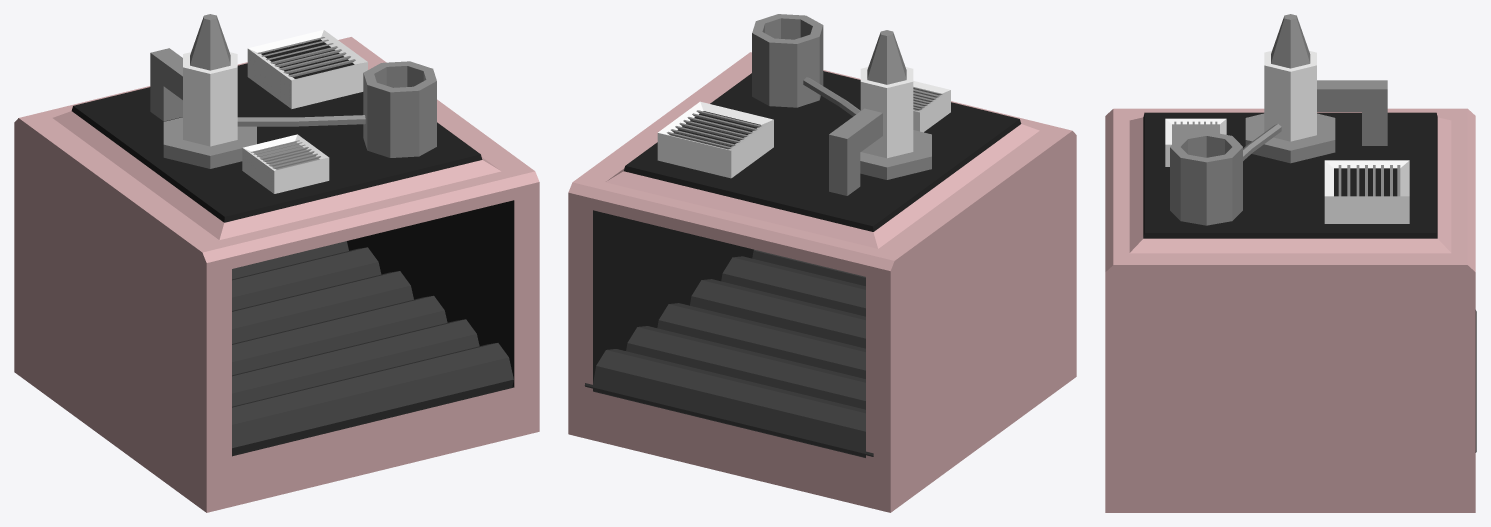
The model's file is bake_Factory.fbx.
3 renders of one model, left to right at view 1: azimuth 30°, elevation 25°; view 2: azimuth 150°, elevation 25°; view 3: azimuth 270°, elevation 25°, orthographic. The views are drawn at different scales.
Visible parts, largest first — view 1: 2, wheels_1_.005, wheels_1_.004, wheels_1_.003, wheels_1_.002, wheels_1_.001, wheels_1_; view 2: 2, wheels_1_, wheels_1_.001, wheels_1_.002, wheels_1_.003, wheels_1_.004, wheels_1_.005; view 3: 2.
Boxes of the visible parts, x1,y1,x2,y2 form: 2: [14, 14, 539, 512]; wheels_1_.005: [232, 343, 513, 454]; wheels_1_.004: [232, 319, 479, 406]; wheels_1_.003: [232, 295, 447, 375]; wheels_1_.002: [232, 271, 413, 343]; wheels_1_.001: [232, 247, 381, 310]; wheels_1_: [232, 241, 348, 279]; 2: [568, 14, 1076, 512]; wheels_1_: [584, 349, 873, 457]; wheels_1_.001: [626, 326, 865, 409]; wheels_1_.002: [657, 303, 865, 378]; wheels_1_.003: [690, 279, 865, 348]; wheels_1_.004: [721, 256, 865, 316]; wheels_1_.005: [752, 249, 865, 286]; 2: [1105, 14, 1475, 512].
Size of the model in its own units: 100 by 115 by 100.
